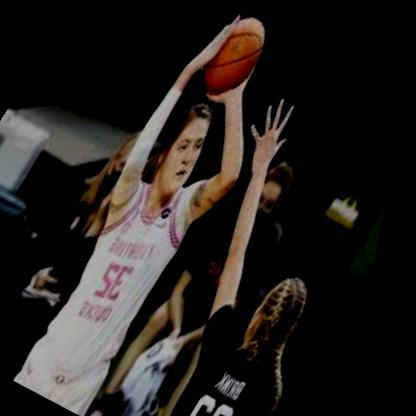basketball: (187, 7, 279, 105)
